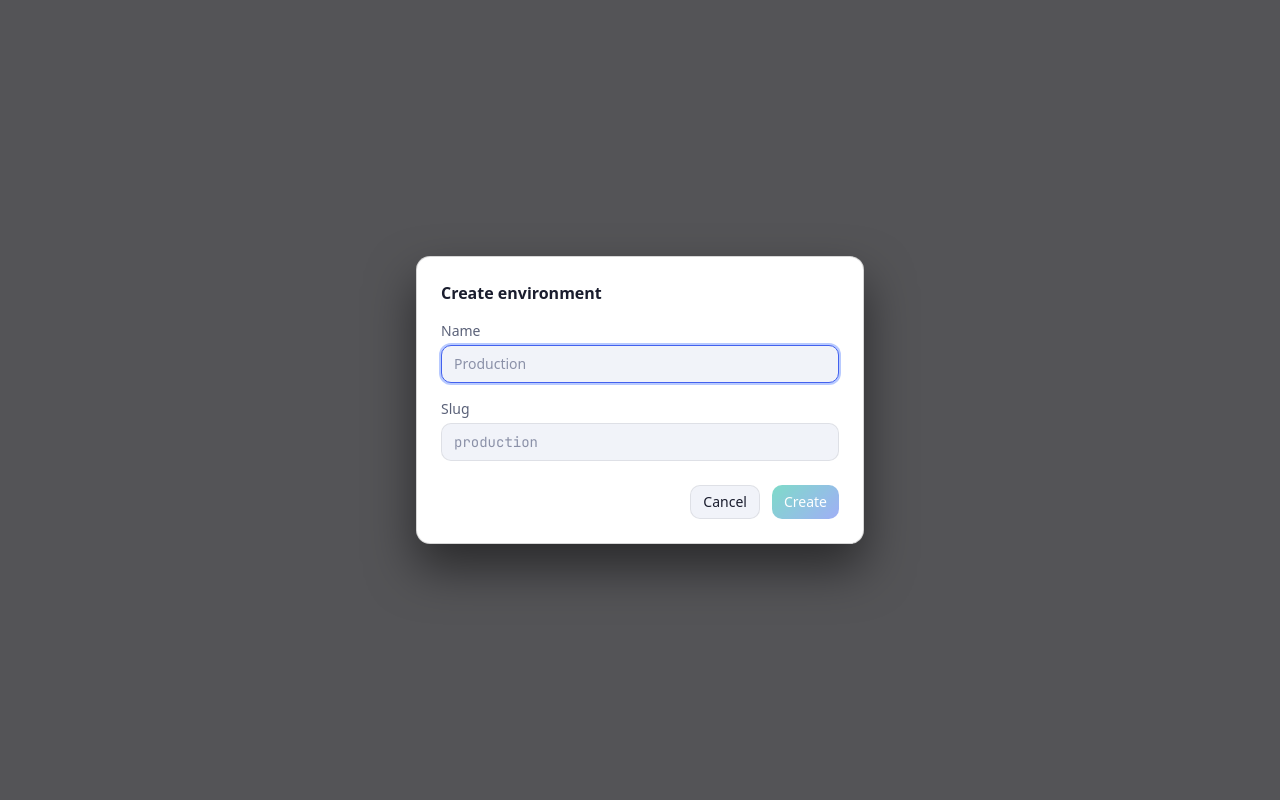
Test: CreateEnvironmentDialog › shows server error on 500 without closing
Type "Staging" into the field labelled "Name".
click(640, 364); type("Staging")  # box [441,345,839,383]
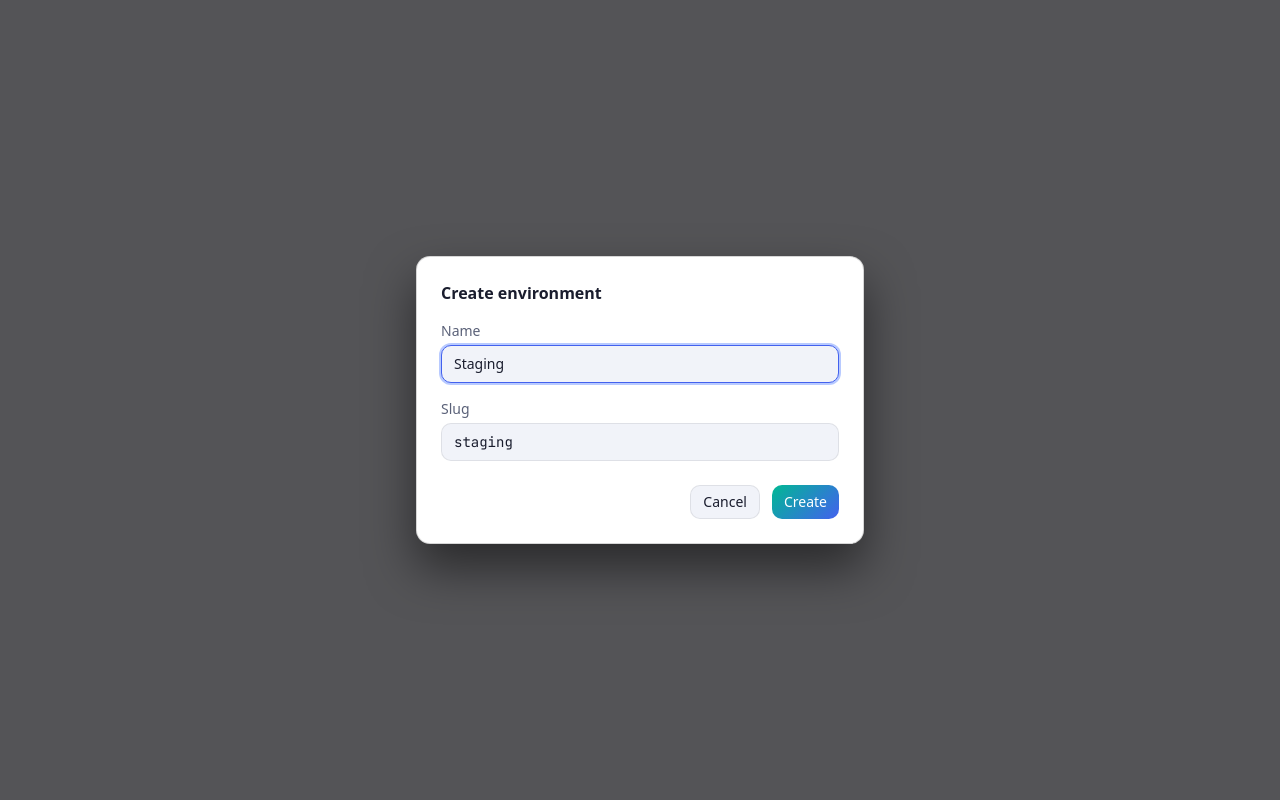
Click the button "Create".
click(805, 502)  # box [772,485,839,519]
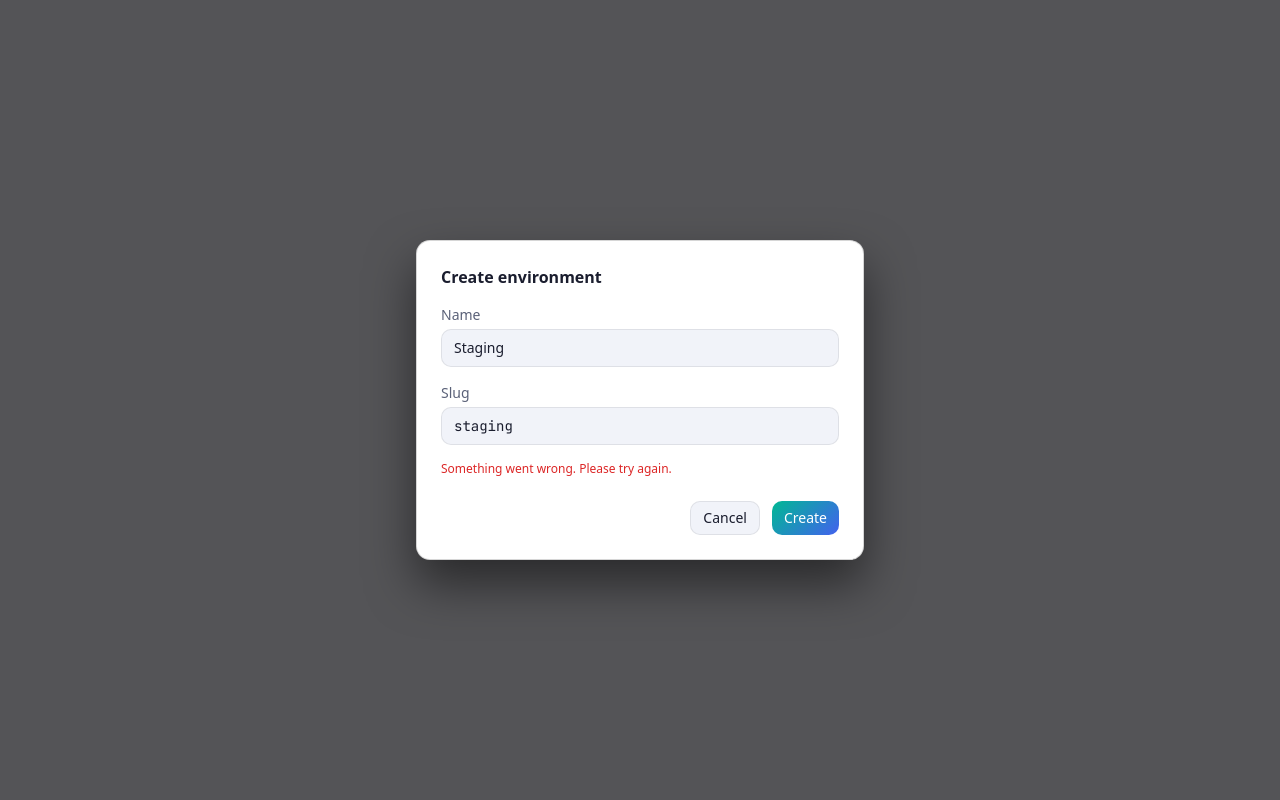
Expected: the text "Something went wrong. Please try again." is shown, [441,460,672,477]
